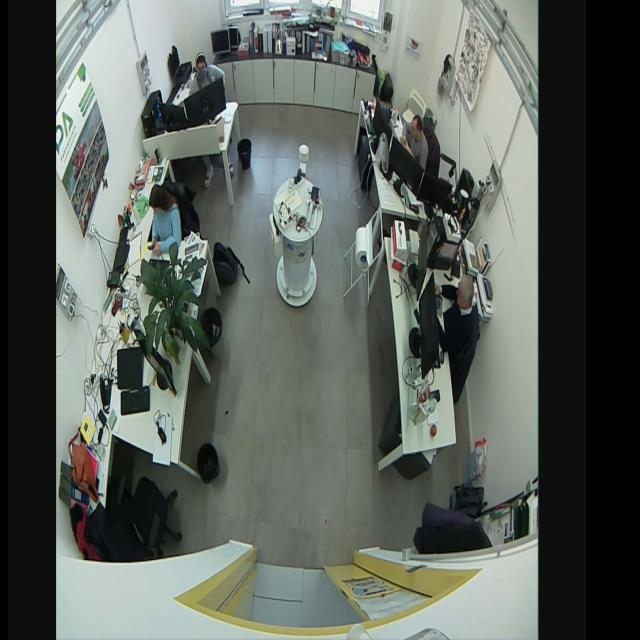Persona: (432, 270, 479, 356), (146, 180, 184, 268), (187, 49, 226, 98), (399, 111, 430, 171)
